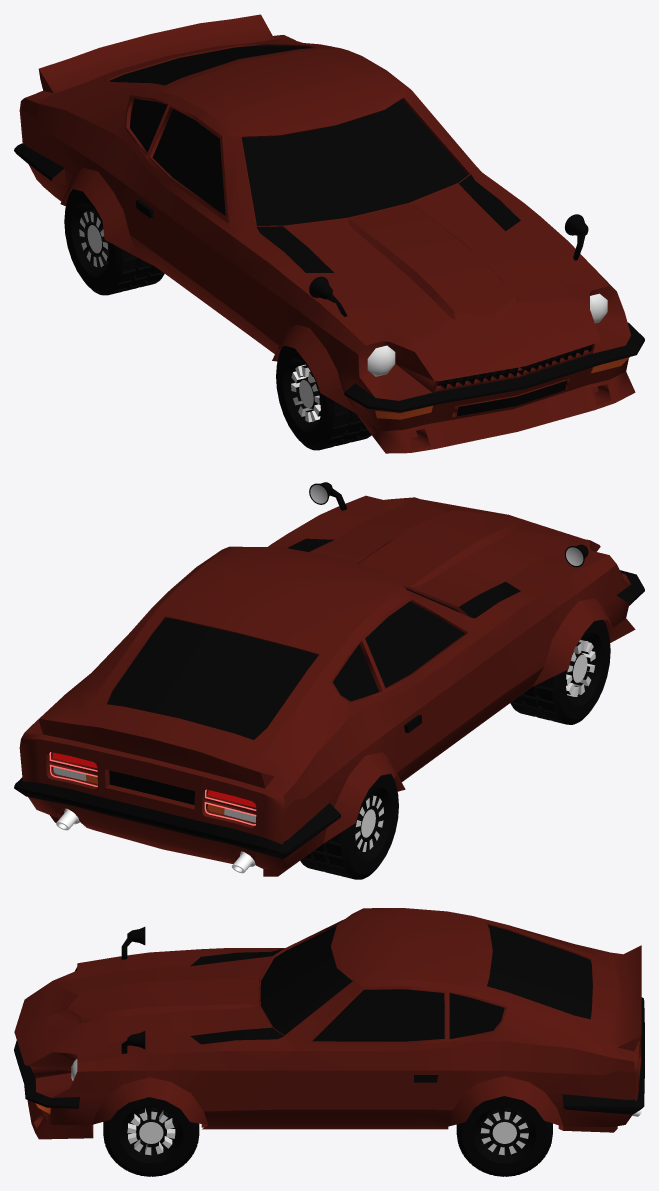
File: car body.fbx
3 renders of one model, top to bottom at view 1: azimuth 30°, elevation 25°; view 2: azimuth 150°, elevation 25°; view 3: azimuth 270°, elevation 25°, orthographic. The views are drawn at different scales.
Visible parts, largest first — view 1: Body, wheel.Ft.R, wheel.Bk.R; view 2: Body, wheel.Ft.R, wheel.Bk.R; view 3: Body, wheel.Bk.L, wheel.Ft.L.
Boxes of the visible parts, x1,y1,x2,y2 form: Body: [14, 14, 644, 453]; wheel.Ft.R: [276, 345, 371, 450]; wheel.Bk.R: [64, 189, 164, 295]; Body: [14, 482, 644, 876]; wheel.Ft.R: [510, 619, 610, 724]; wheel.Bk.R: [300, 773, 398, 879]; Body: [14, 908, 644, 1139]; wheel.Bk.L: [456, 1096, 552, 1176]; wheel.Ft.L: [103, 1097, 199, 1176].
Bounding box in the file's own units: 163 × 113 × 354.
